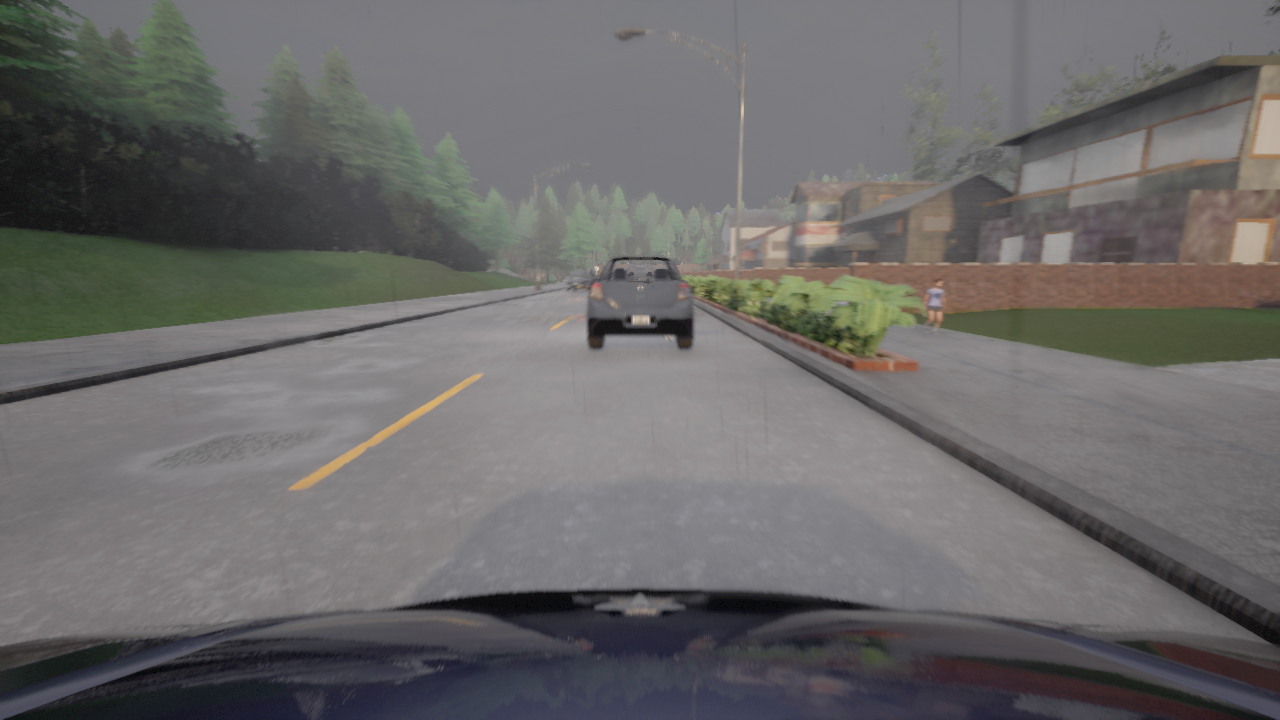cyclist: (0, 588, 1279, 719), (587, 256, 693, 349), (565, 269, 597, 291)
pedestrian: (923, 278, 945, 333)
